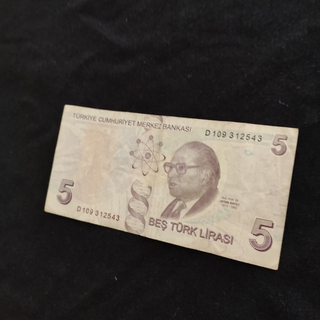5TLBack: (42, 102, 300, 271)
